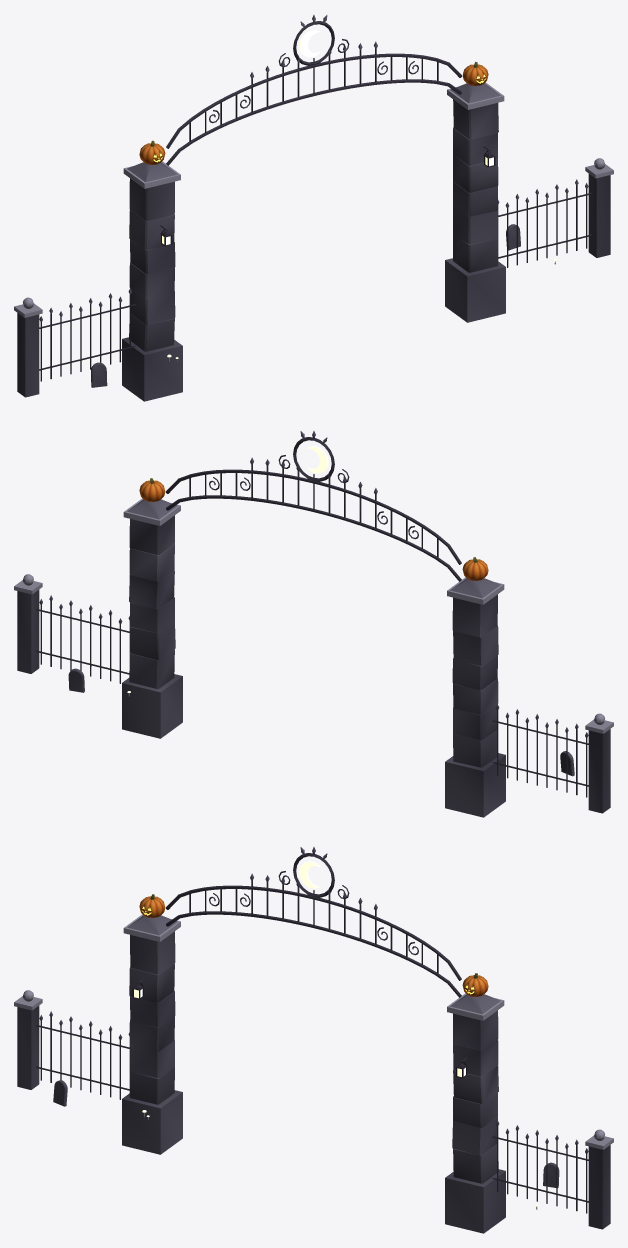
The model's file is graveyard_gate.glb.
The picture shows the model from 3 angles, top to bottom: view 1: azimuth 30°, elevation 25°; view 2: azimuth 150°, elevation 25°; view 3: azimuth 330°, elevation 25°; orthographic projection.
Visible parts, largest first — view 1: graveyard_gate; view 2: graveyard_gate; view 3: graveyard_gate.
Boxes of the visible parts, bbox=[...] form: graveyard_gate: bbox=[14, 15, 613, 401]; graveyard_gate: bbox=[14, 431, 613, 817]; graveyard_gate: bbox=[14, 847, 613, 1233].
Size of the model in its own units: 25.9 by 14.07 by 3.23.
